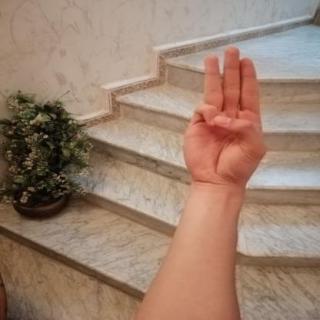THA: (171, 38, 277, 196)
